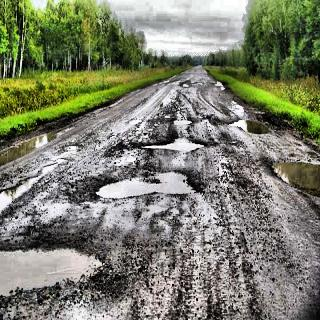pothole: (4, 225, 110, 296), (99, 157, 203, 214), (227, 117, 276, 137), (159, 112, 200, 134)
